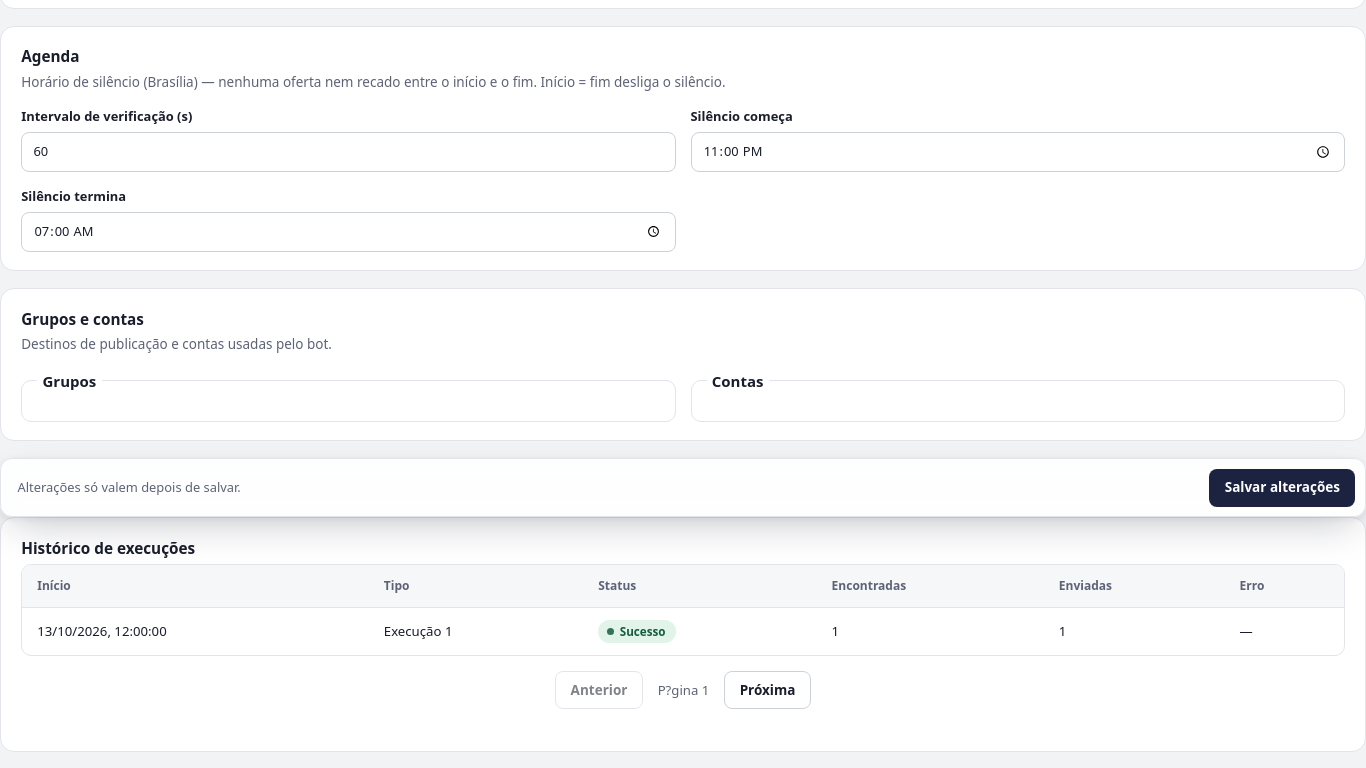
Test: pagina o histórico de execuções do bot
This screenshot has width=1366, height=768.
(page scrolled)
expect the text "Execução 1" is shown: met, box [369,607,583,656]
Click the button "Próxima": [768, 690] box [724,672,811,710]
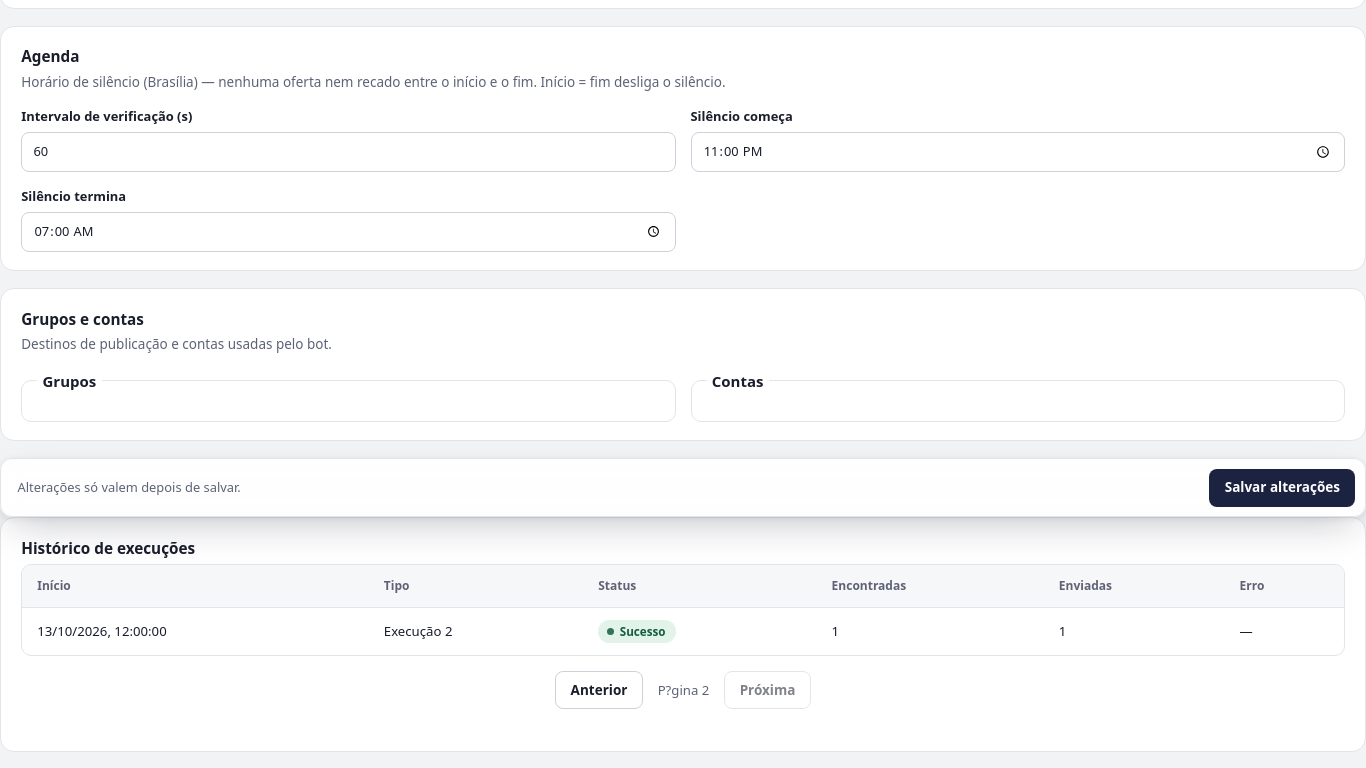
expect the text "Execução 2" is shown: met, box [369,607,583,656]
expect the button "Próxima" is disabled: met, box [724,672,811,710]
Click the button "Anterior": [599, 690] box [555,672,643,710]
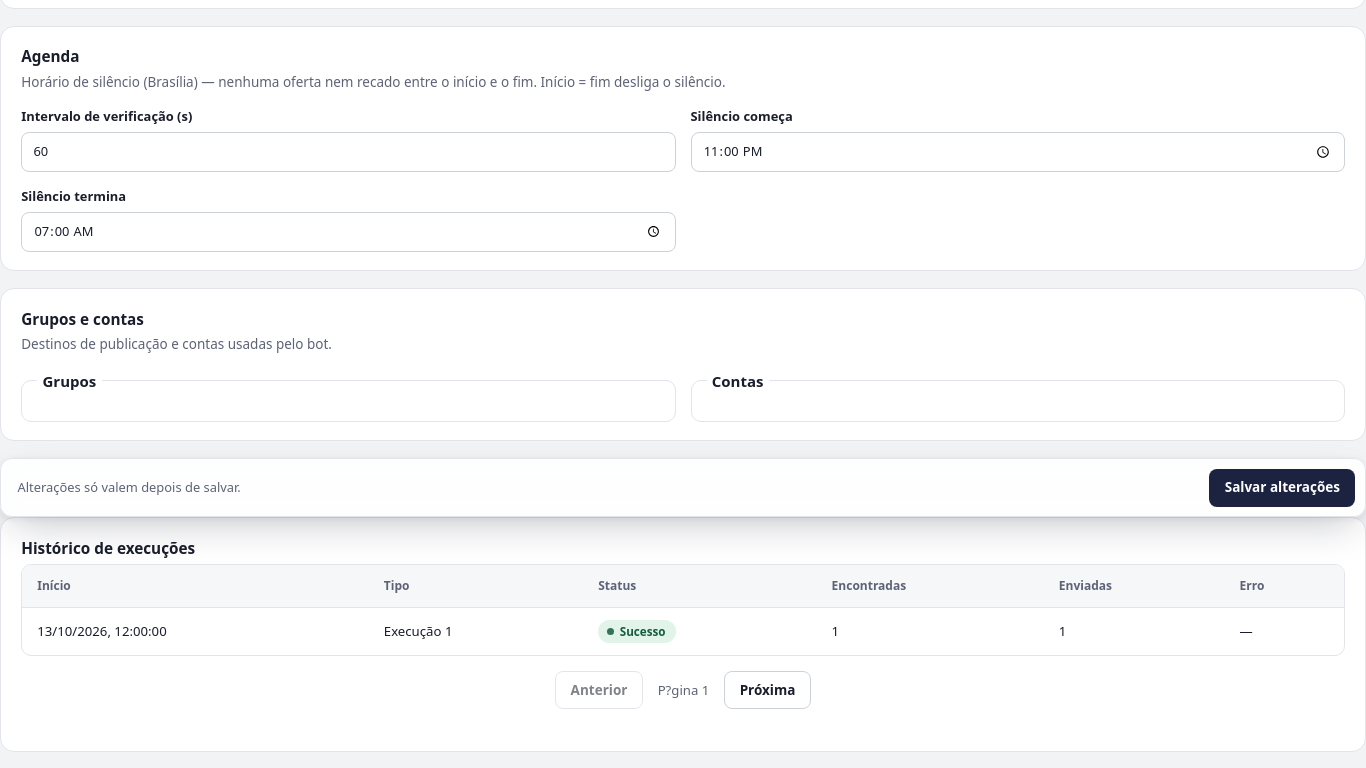
expect the text "Execução 1" is shown: met, box [369,607,583,656]
